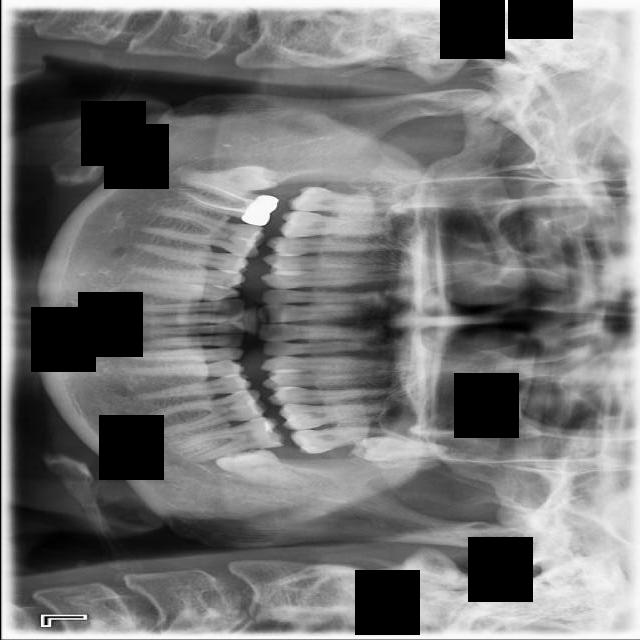52: (215, 215, 269, 262), (231, 183, 281, 232), (235, 413, 288, 454)
73: (22, 616, 36, 628)
BioHorizons Implant: (289, 420, 402, 456)
BioLife Implant: (348, 437, 449, 462)
Biomet 3i Implant: (212, 434, 317, 501)
Blue Sky Bio Implant: (170, 413, 286, 467)
Caries: (287, 184, 403, 219)
Implant: (177, 175, 280, 230)
Keystone Dental Implant: (180, 164, 278, 192)
